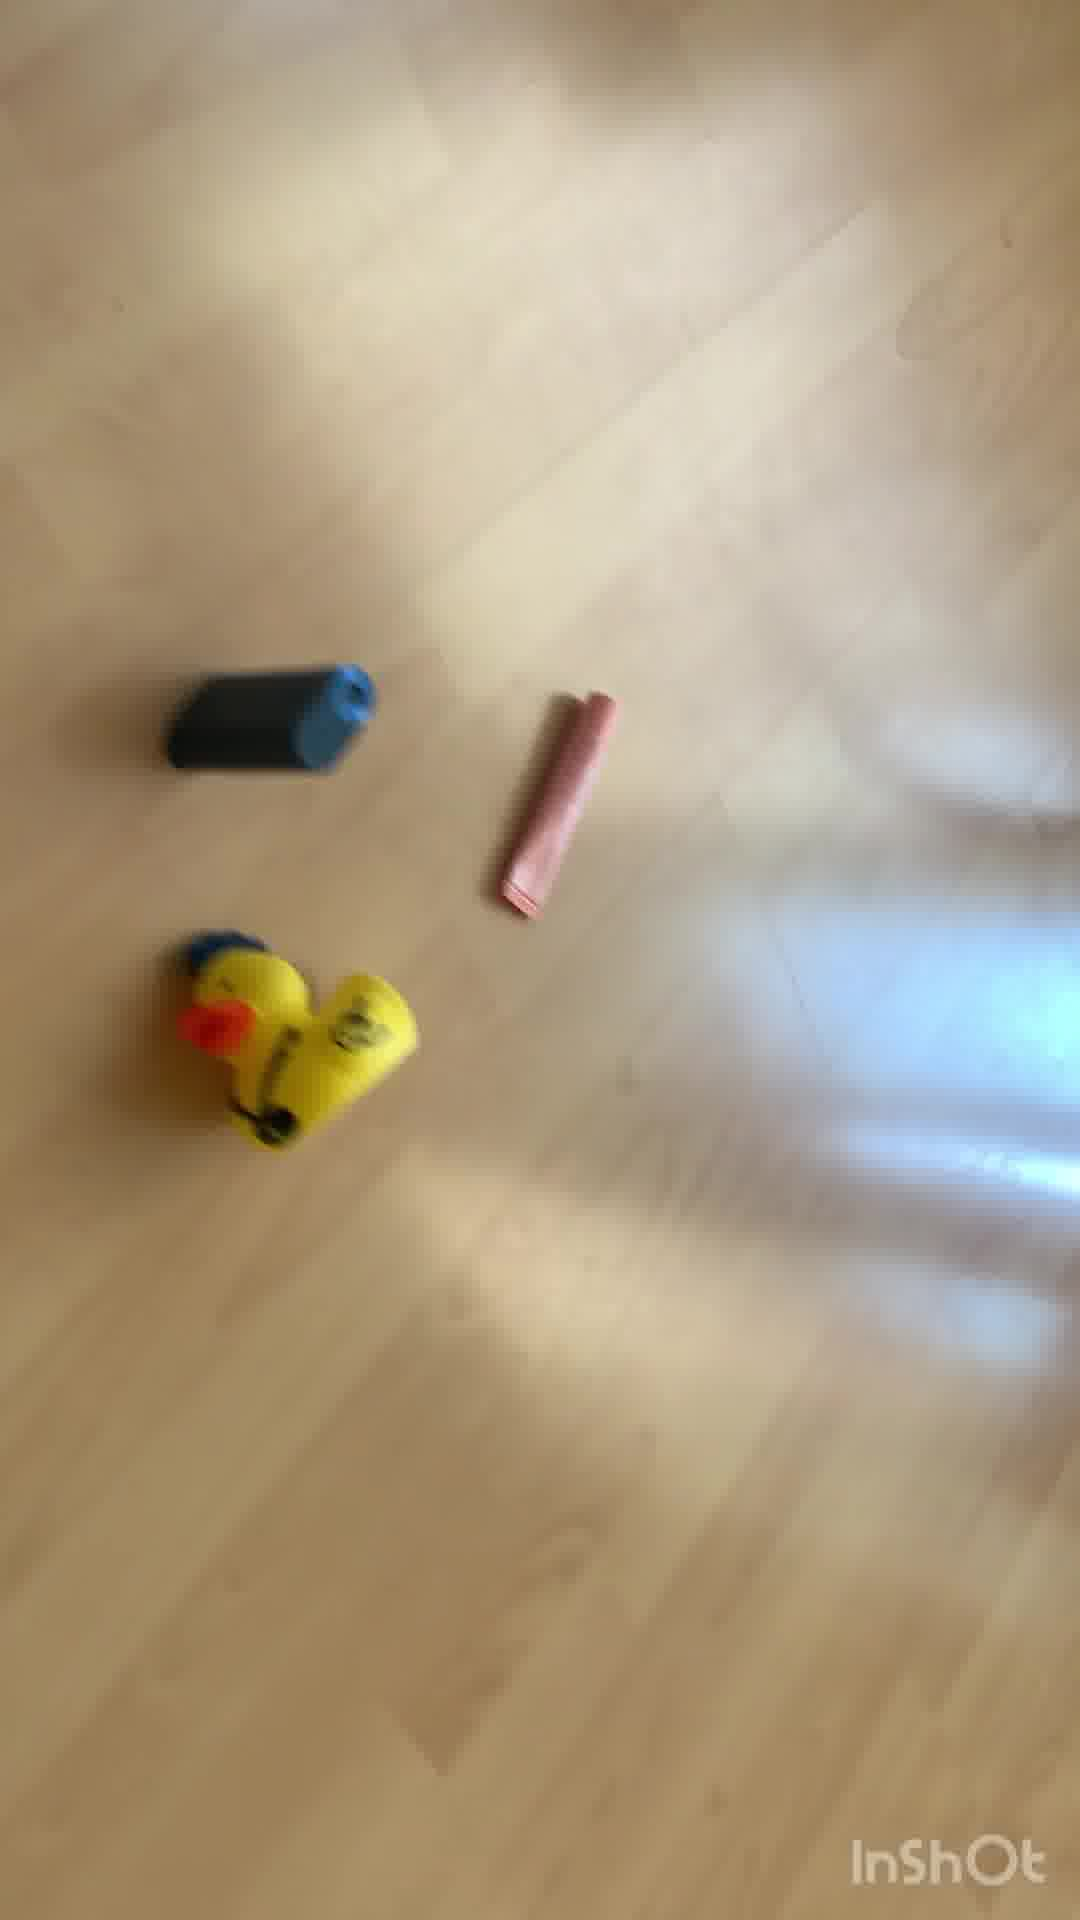duck: (149, 920, 423, 1159)
glo: (144, 667, 396, 782)
lip balm: (498, 682, 628, 928)
